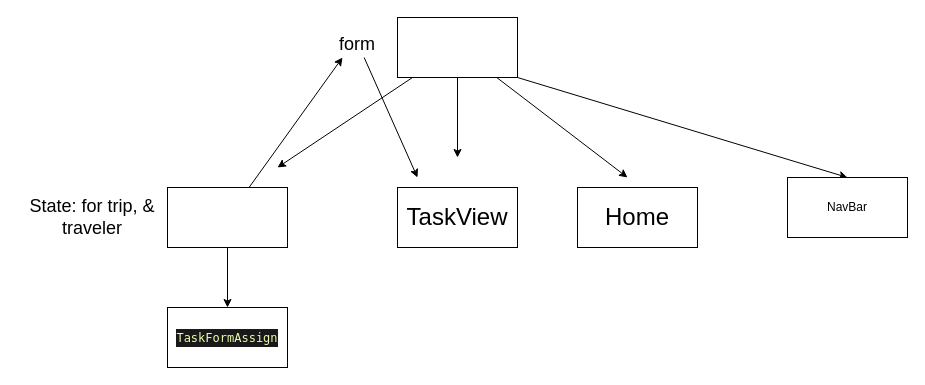
Some shapes in this 925 by 385 pixel diagram are drawn without their labels. Each missing label, with the centre of its shape:
"App" belongs at (x=457, y=47).
"TaskSetup" belongs at (x=227, y=217).
